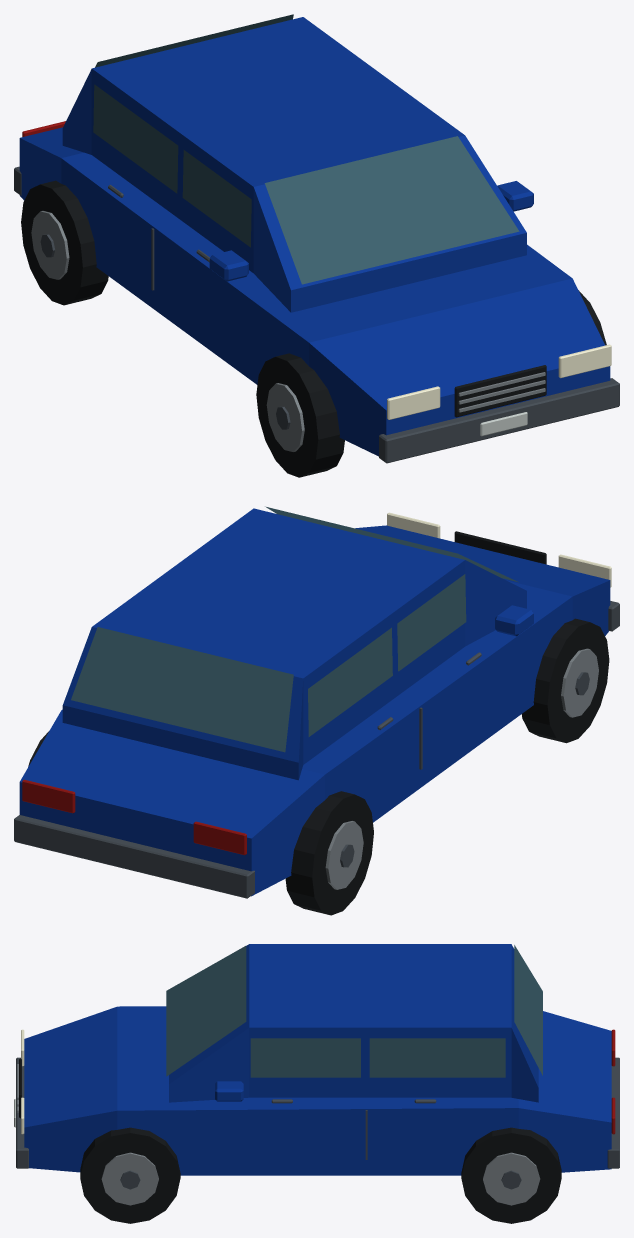
Rendered from HatchbackBlue.fbx.
The picture shows the model from 3 angles, top to bottom: view 1: azimuth 30°, elevation 25°; view 2: azimuth 150°, elevation 25°; view 3: azimuth 270°, elevation 25°; orthographic projection. The views are drawn at different scales.
Visible parts, largest first — view 1: HatchbackBlue; view 2: HatchbackBlue; view 3: HatchbackBlue.
Boxes of the visible parts, x1,y1,x2,y2 form: HatchbackBlue: (14, 14, 619, 477); HatchbackBlue: (14, 506, 619, 915); HatchbackBlue: (14, 944, 619, 1223).
Size of the model in its own units: 202 by 141 by 423.
1 material, 1 textured.
